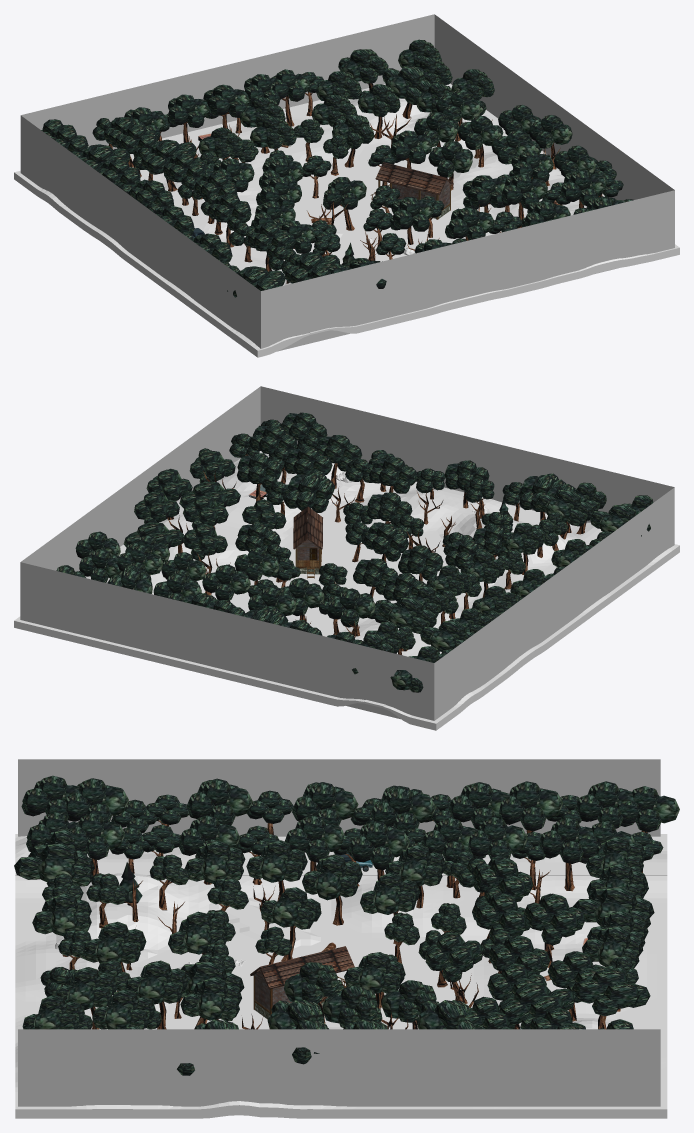
Rendered from VF-terrain.fbx.
3 renders of one model, top to bottom at view 1: azimuth 30°, elevation 25°; view 2: azimuth 150°, elevation 25°; view 3: azimuth 270°, elevation 25°, orthographic. The views are drawn at different scales.
Parts seen in each view (by area): view 1: Cube, terrain, Maison, Cylinder.038, Cylinder.090, Cylinder.098, Cylinder.079, Cylinder.104, Cylinder.051, Cylinder.050, Cylinder.044, Cylinder.105 (+53 smaller); view 2: Cube, terrain, Maison, Cylinder.044, Cylinder, Cylinder.010, Cylinder.065, Cylinder.046, Cylinder.104, Cylinder.079, Cylinder.067, Cylinder.080 (+49 smaller); view 3: Cube, terrain, Maison, Cylinder.092, Cylinder.028, Cylinder.087, Cylinder.027, Cylinder.102, Cylinder.018, Cylinder.020, Cylinder.090, route (+67 smaller).
Part boxes in pixels (left/top/right/bottom): Cube: left=20, top=14, right=674, bottom=351; terrain: left=14, top=83, right=679, bottom=357; Maison: left=370, top=162, right=453, bottom=219; Cylinder.038: left=390, top=197, right=433, bottom=244; Cylinder.090: left=382, top=65, right=431, bottom=118; Cylinder.098: left=500, top=173, right=547, bottom=228; Cylinder.079: left=445, top=207, right=493, bottom=240; Cylinder.104: left=323, top=177, right=366, bottom=230; Cylinder.051: left=203, top=84, right=249, bottom=128; Cylinder.050: left=166, top=94, right=209, bottom=142; Cylinder.044: left=462, top=175, right=506, bottom=212; Cylinder.105: left=428, top=141, right=473, bottom=190; Cube: left=20, top=386, right=674, bottom=720; terrain: left=14, top=451, right=679, bottom=730; Maison: left=293, top=506, right=322, bottom=578; Cylinder.044: left=284, top=473, right=334, bottom=512; Cylinder: left=536, top=490, right=593, bottom=539; Cylinder.010: left=379, top=597, right=436, bottom=651; Cylinder.065: left=328, top=588, right=375, bottom=636; Cylinder.046: left=237, top=453, right=282, bottom=501; Cylinder.104: left=363, top=522, right=408, bottom=562; Cylinder.079: left=369, top=457, right=417, bottom=493; Cylinder.067: left=202, top=564, right=250, bottom=601; Cylinder.080: left=315, top=435, right=362, bottom=488; Cube: left=18, top=759, right=660, bottom=1106; terrain: left=15, top=834, right=667, bottom=1118; Maison: left=250, top=946, right=354, bottom=1019; Cylinder.092: left=571, top=968, right=650, bottom=1029; Cylinder.028: left=14, top=843, right=94, bottom=886; Cylinder.087: left=302, top=854, right=362, bottom=925; Cylinder.027: left=499, top=781, right=562, bottom=833; Cylinder.102: left=524, top=893, right=585, bottom=967; Cylinder.018: left=370, top=785, right=436, bottom=833; Cylinder.020: left=186, top=778, right=252, bottom=825; Cylinder.090: left=499, top=982, right=575, bottom=1029; route: left=15, top=862, right=667, bottom=875.
Size of the model in its own units: 50000 by 7748 by 51094.
